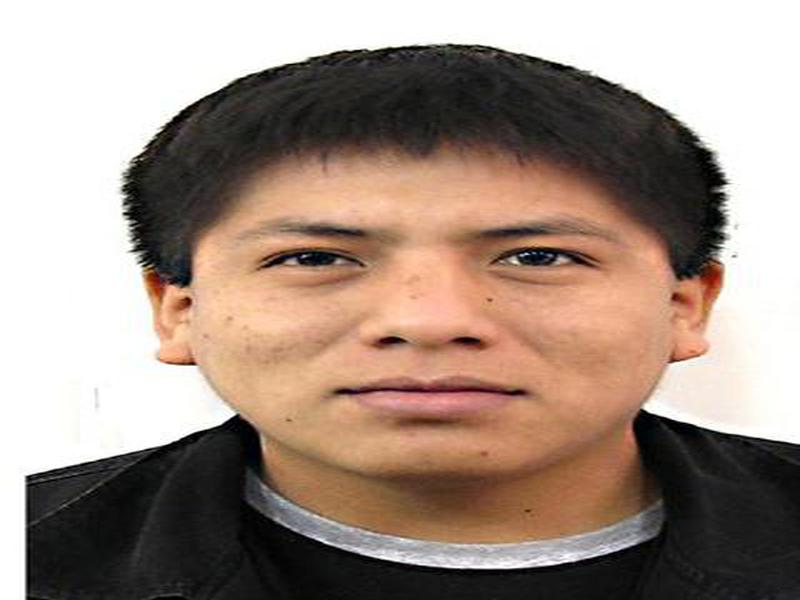without_mask: (189, 151, 665, 487)
